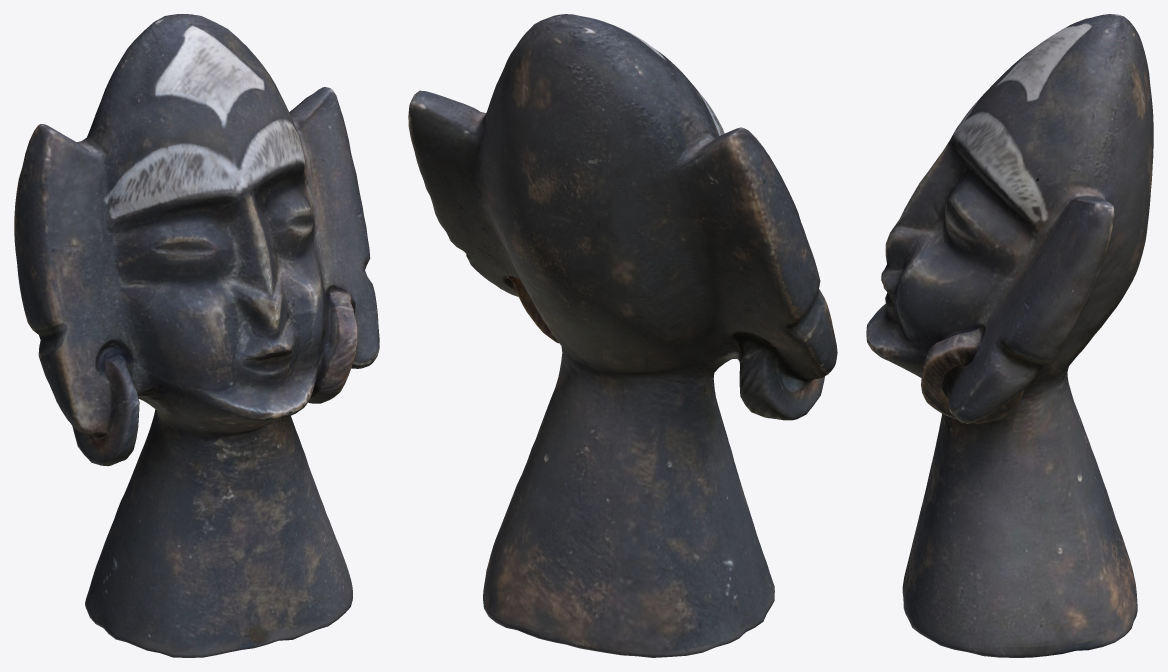
Rendered from african_head_sculpture.glb.
3 views of the same model, side by side, from view 1: azimuth 30°, elevation 25°; view 2: azimuth 150°, elevation 25°; view 3: azimuth 270°, elevation 25° (orthographic). The views are drawn at different scales.
Parts seen in each view (by area): view 1: Object_2; view 2: Object_2; view 3: Object_2.
Part boxes in pixels (x1=…): Object_2: x1=14, y1=14, x2=379, y2=657; Object_2: x1=408, y1=14, x2=837, y2=657; Object_2: x1=866, y1=14, x2=1153, y2=657.
Bounding box in the file's own units: 1.55 × 2.49 × 1.11.
Materials: 1 (1 with a texture image).
